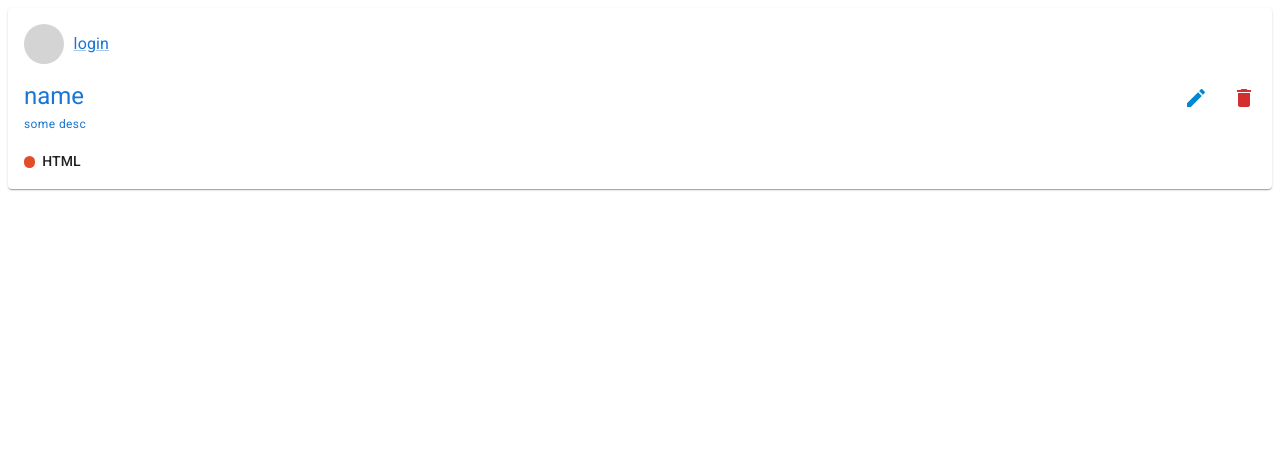
Item › show buttons in edit mode
Click the button with test id "Item_editButton".
click(1196, 98)  # box [1176, 78, 1216, 118]
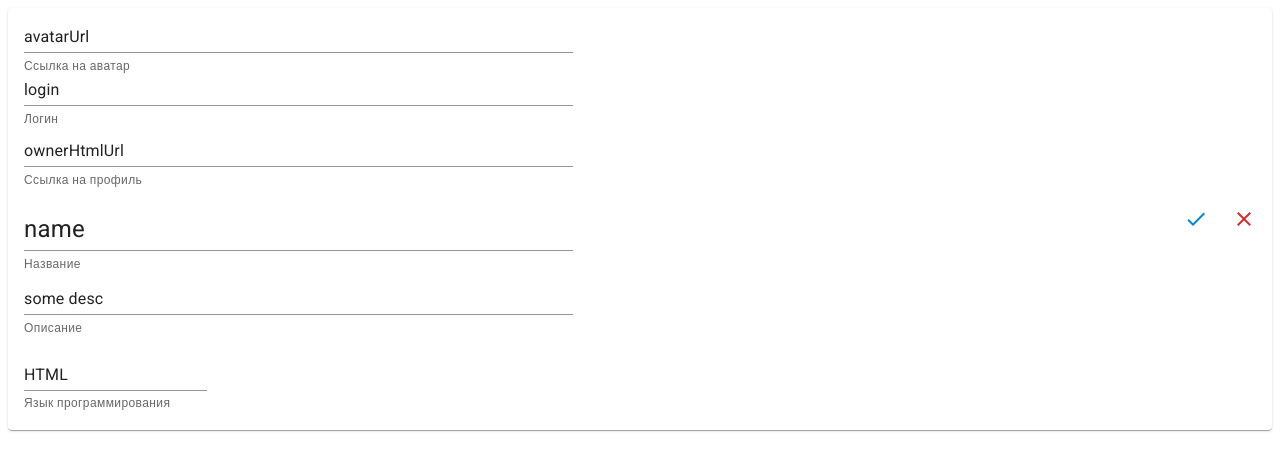
Expected: the icon with test id "Item_editButton" is gone
Expected: the icon with test id "Item_deleteButton" is gone
Expected: the icon with test id "Item_saveButton" is shown, [1184, 207, 1208, 231]
